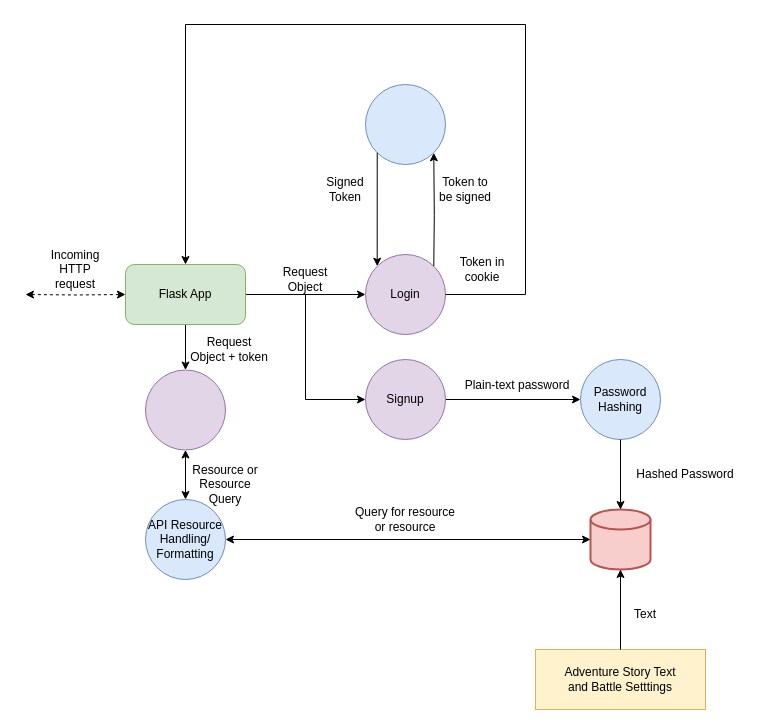
This 768x727 diagram has some shape labels left out. The shapes that lost their labels are listed below. From the top down, each one's box as (x1, y1, x2, y2) in pixels, then its label:
(364, 84, 446, 164): Elliptical Curve Signer
(144, 369, 226, 450): Authorisation Checker
(589, 508, 651, 570): SQLite DB
